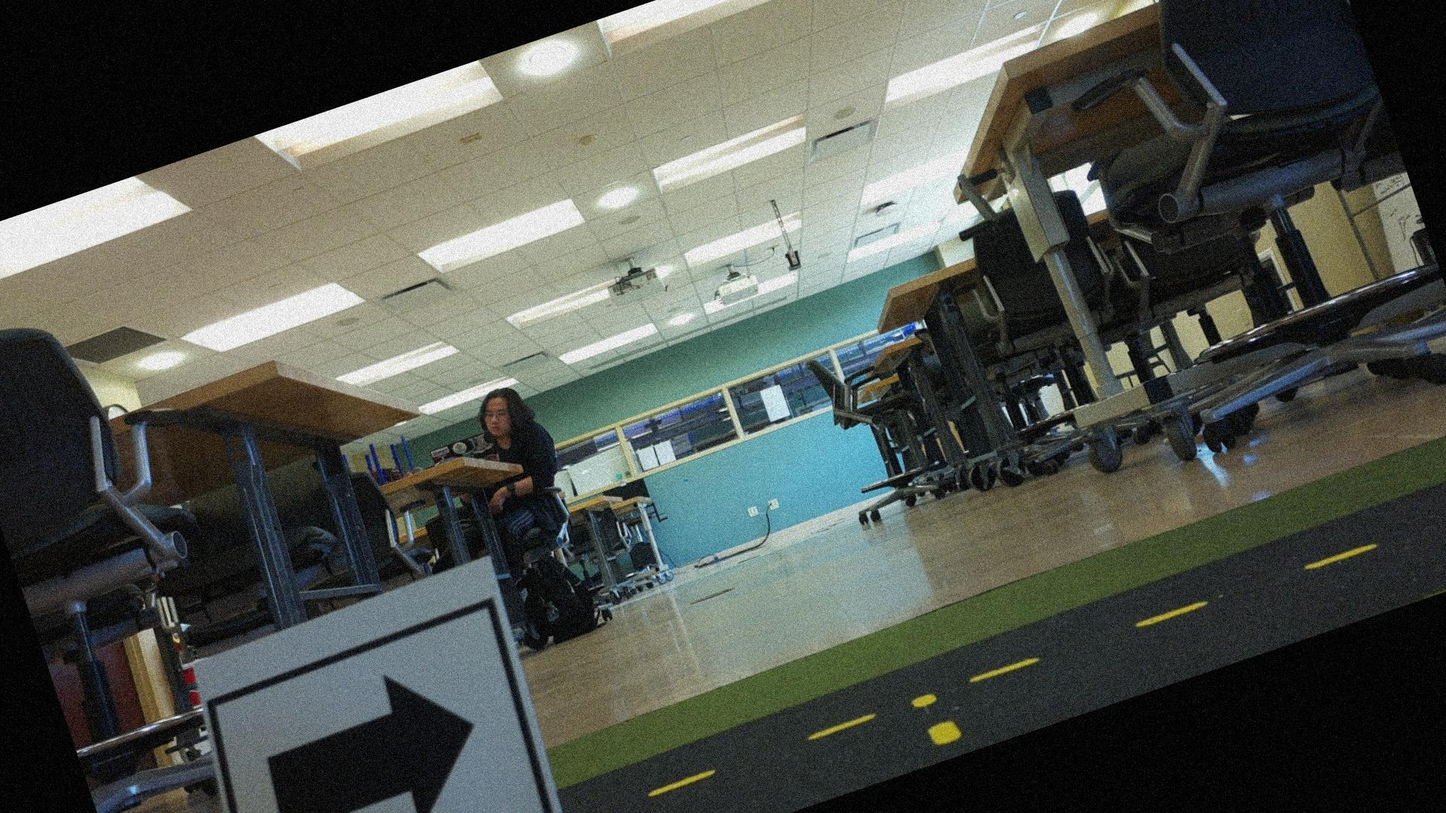turnright: (207, 613, 563, 812)
yellowline: (643, 492, 1445, 800), (909, 687, 966, 754)
